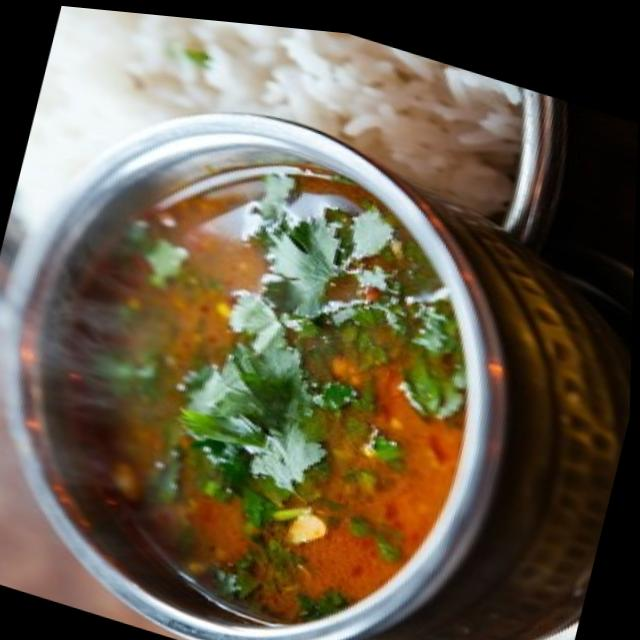RASAM: (20, 111, 498, 640)
